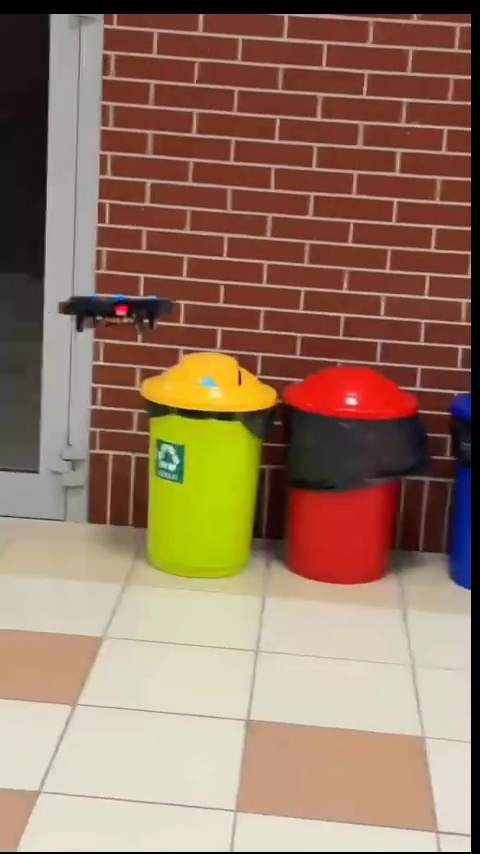drone: (54, 290, 178, 340)
